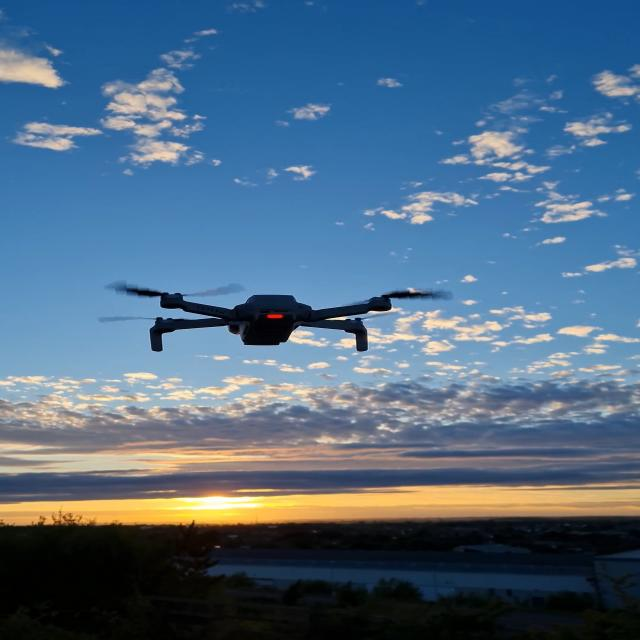Drone: (128, 255, 440, 372)
